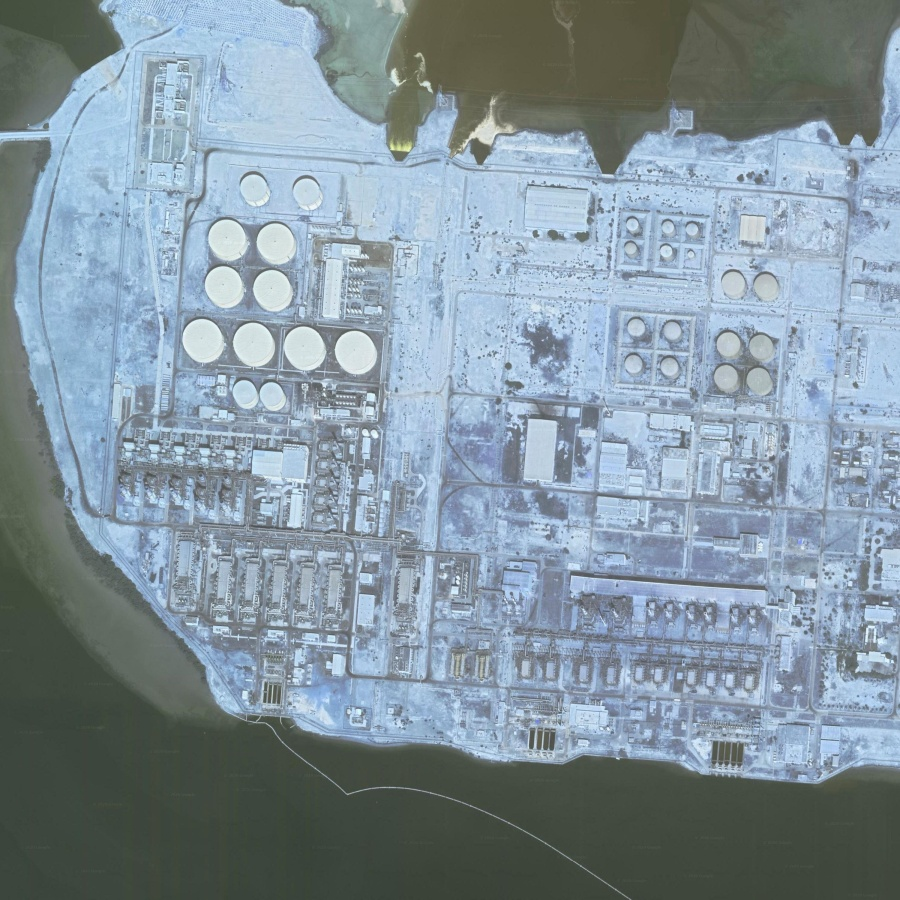PowerPlant: (110, 159, 410, 548)
